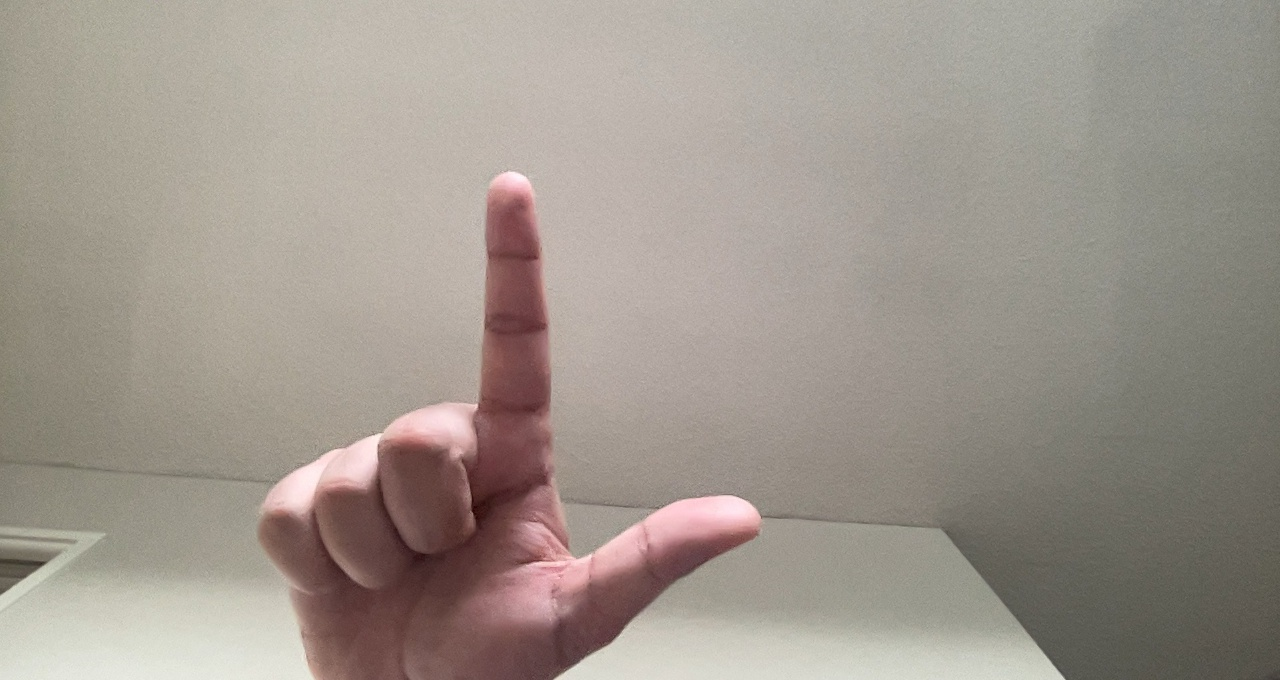L: (243, 166, 775, 668)
